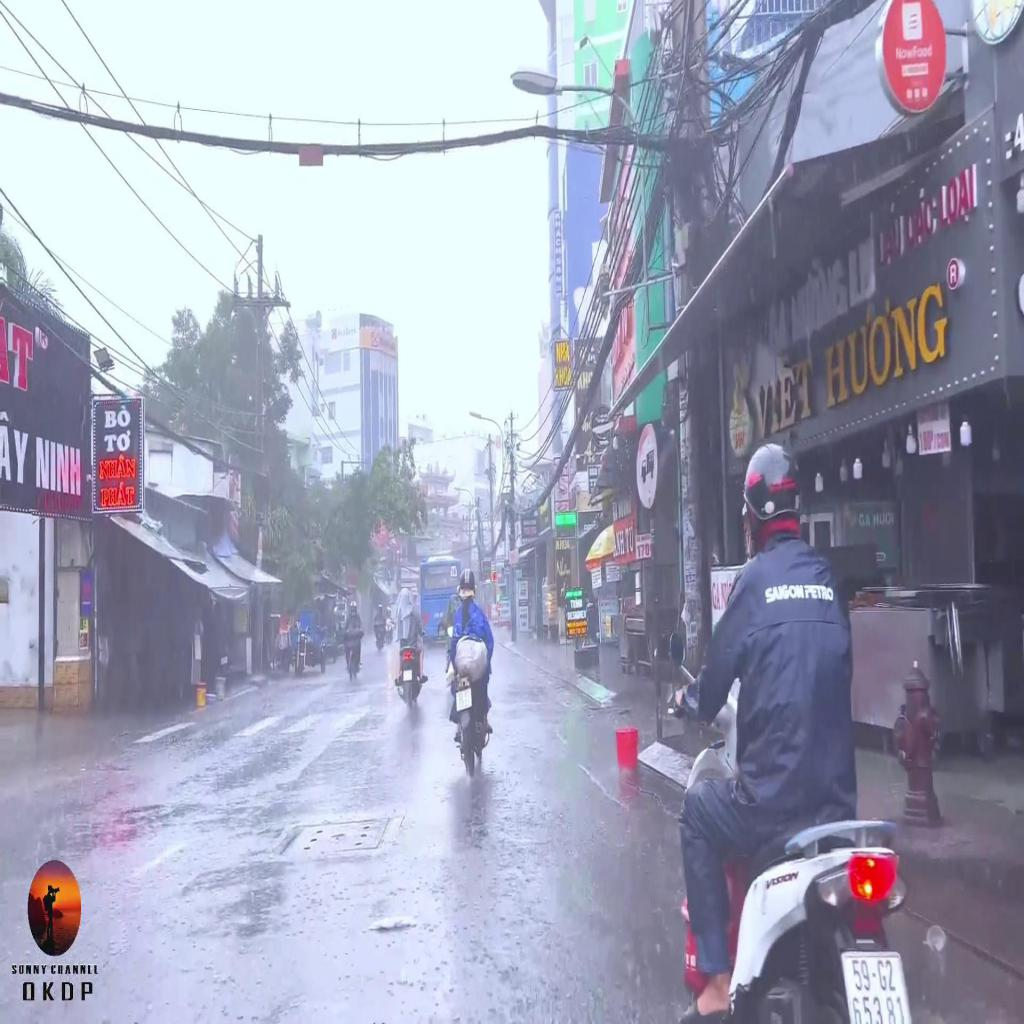cam_o_to_tai: (635, 419, 661, 512)
